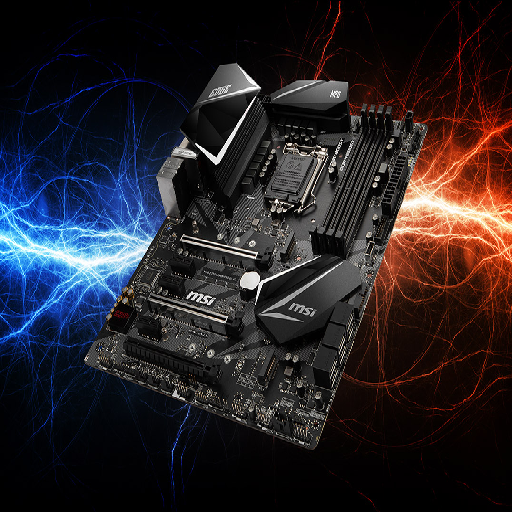CPU: (261, 144, 329, 220)
GPU: (123, 334, 228, 388), (144, 291, 241, 343), (177, 231, 273, 275)
MOTHERBOARD: (86, 61, 424, 453)
RAM: (312, 100, 394, 257)
SSD: (255, 348, 278, 384), (280, 233, 295, 263)
